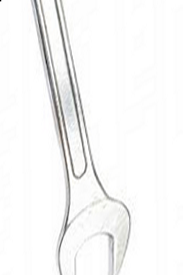Wrench: (21, 1, 131, 275)
